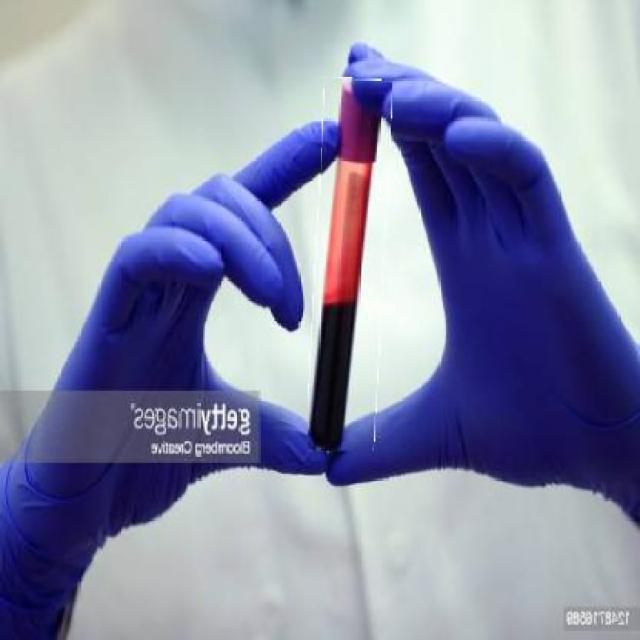Experimental-tube: (310, 79, 388, 452)
